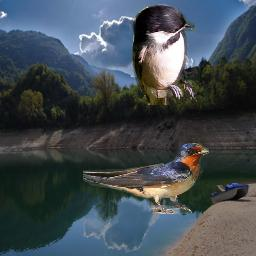Swallow: (83, 143, 209, 214), (130, 2, 199, 105)
